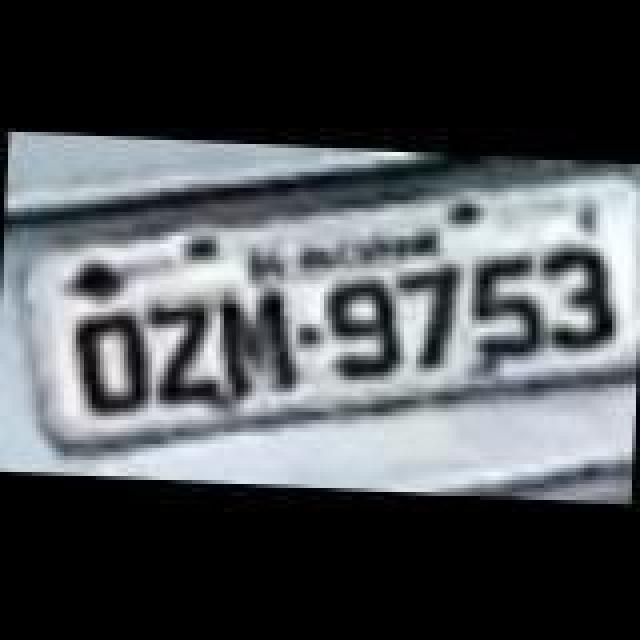3: (532, 240, 620, 352)
5: (470, 252, 546, 364)
7: (386, 266, 462, 374)
9: (322, 276, 406, 380)
M: (212, 286, 308, 402)
O: (70, 314, 154, 422)
Z: (144, 300, 224, 404)
